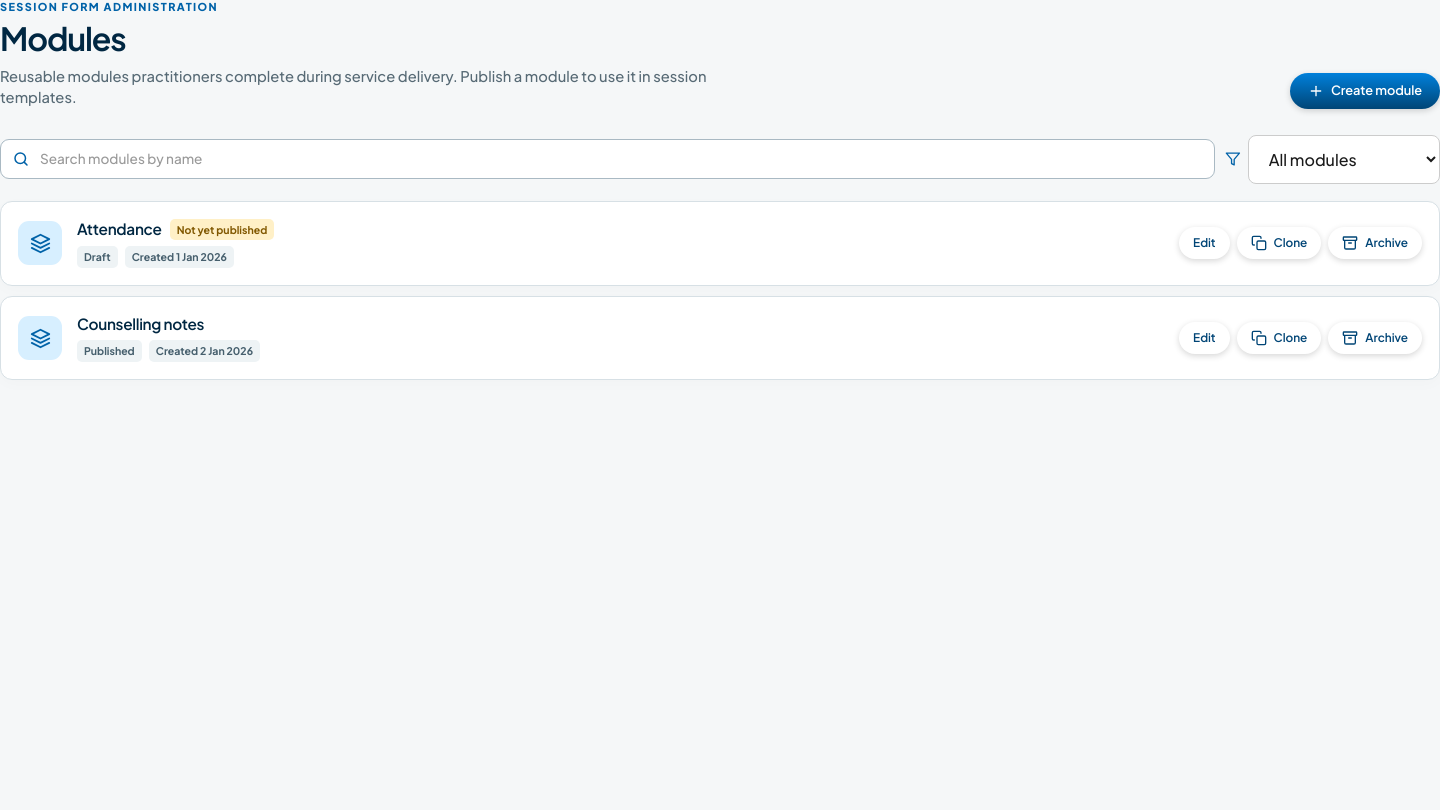
Test case: ModulesList › asks for confirmation before archiving a module (US-7.4)
Check: the heading "Attendance" is shown, box [77, 220, 162, 240]
Click the button "Archive" in the row of "Not yet published" at [1375, 243], box [1328, 227, 1422, 259]
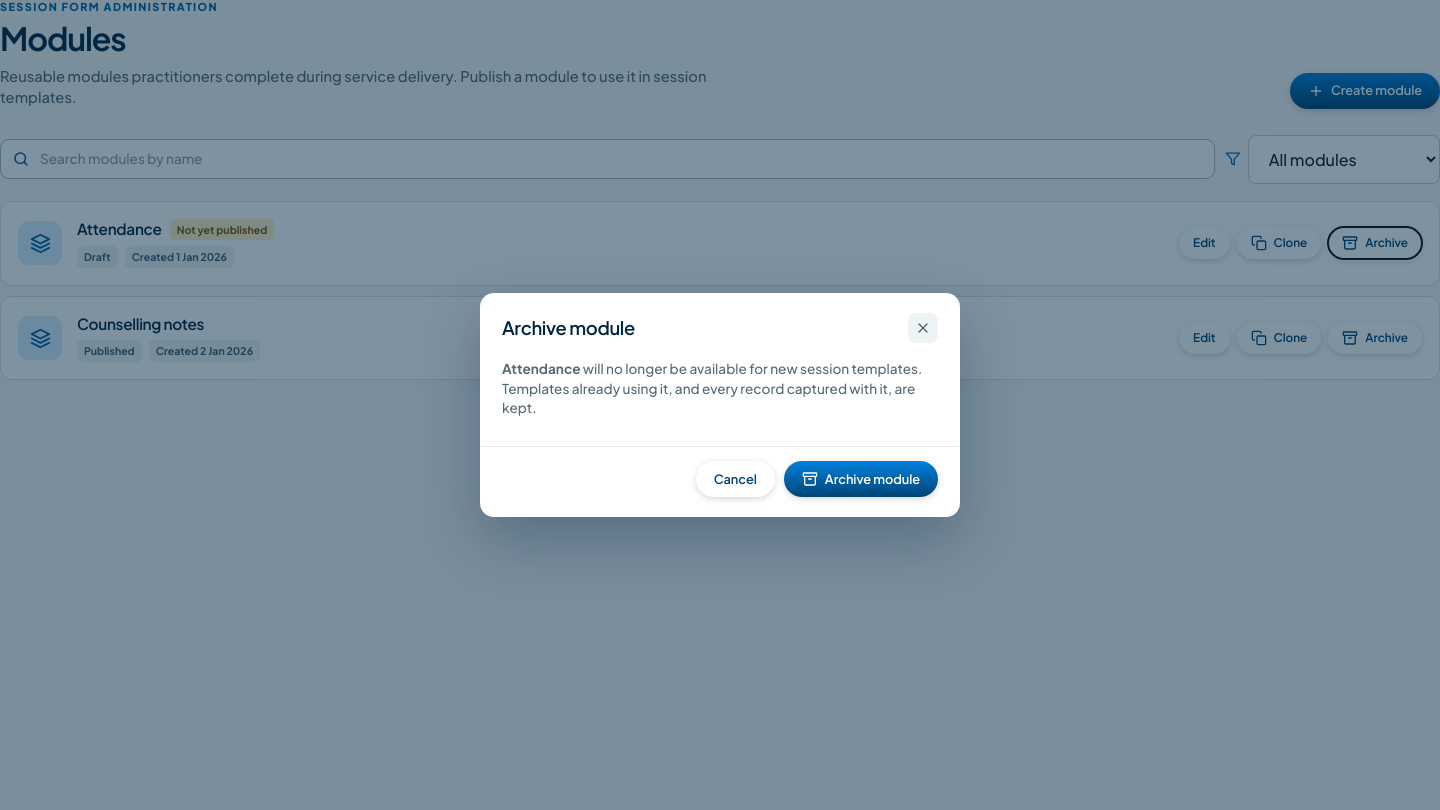
Click the button "Archive module" at [861, 479], box [784, 461, 938, 497]
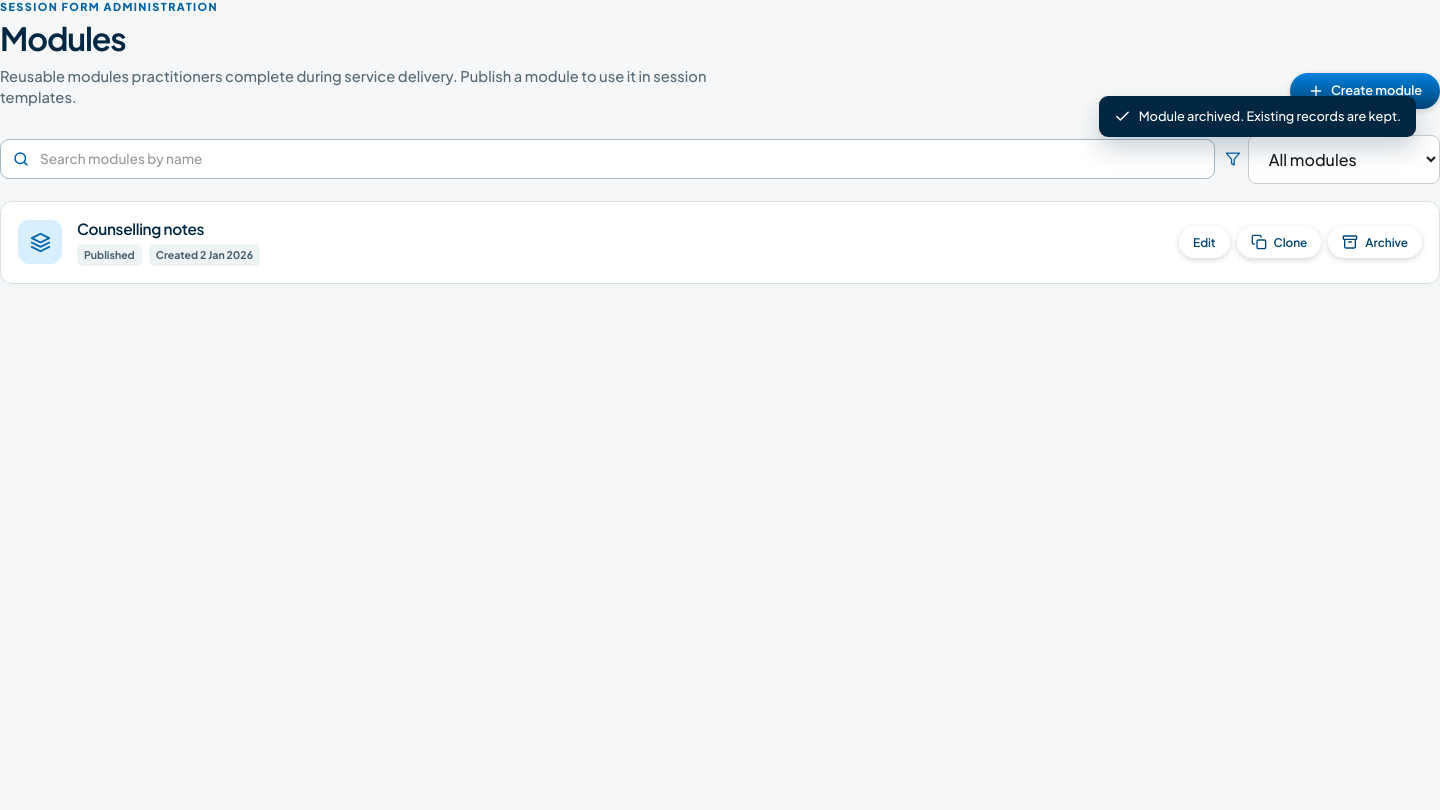
Check: the heading "Attendance" is gone
